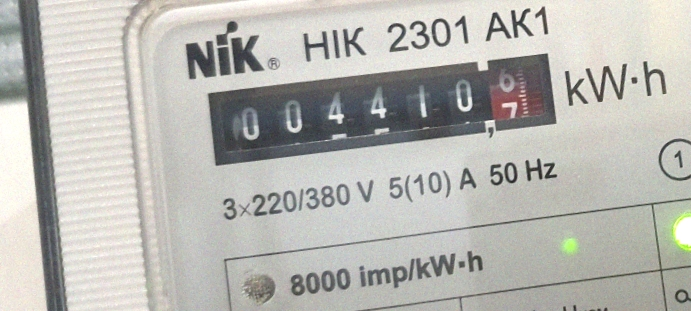0: (236, 102, 262, 142), (280, 95, 303, 135), (451, 75, 475, 113)
1: (411, 81, 430, 119)
4: (363, 82, 390, 123), (321, 86, 347, 126)
6: (497, 65, 517, 93)
7: (498, 98, 519, 120)
screen: (193, 35, 570, 180)
